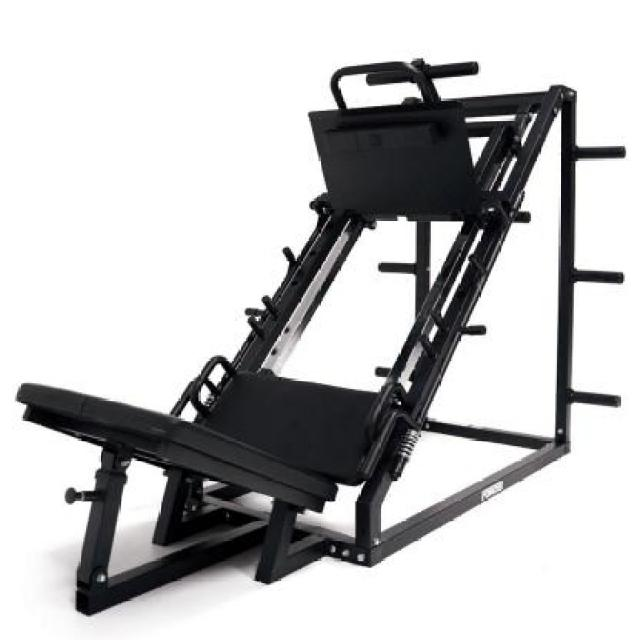leg press: (14, 45, 634, 617)
